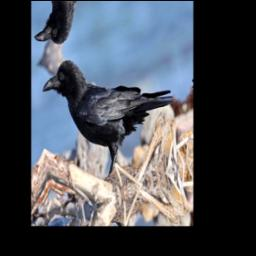Crow: (39, 13, 183, 205)
